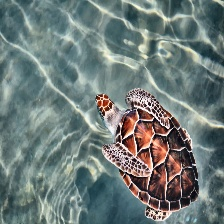seaturtle: (95, 88, 200, 221)
